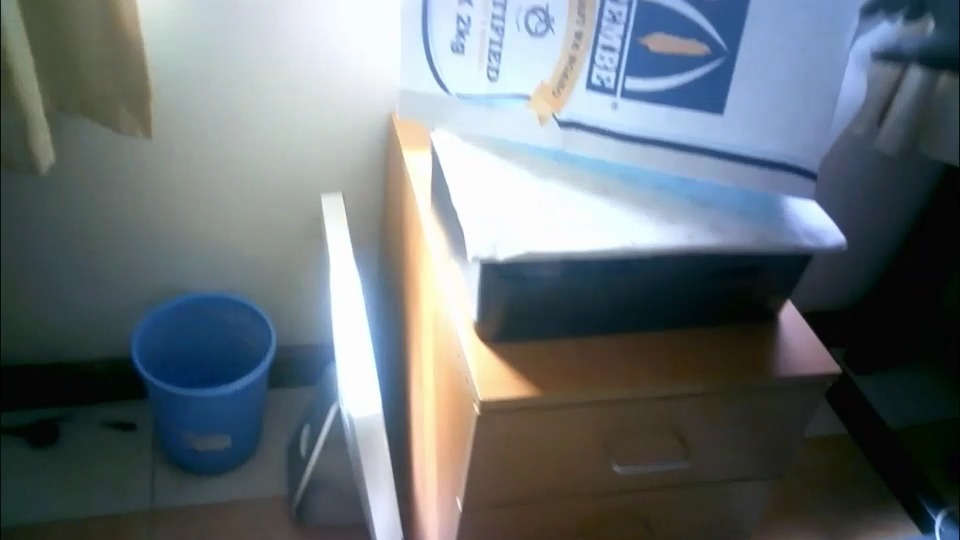wheat_flour_blue_label: (396, 0, 904, 192)
